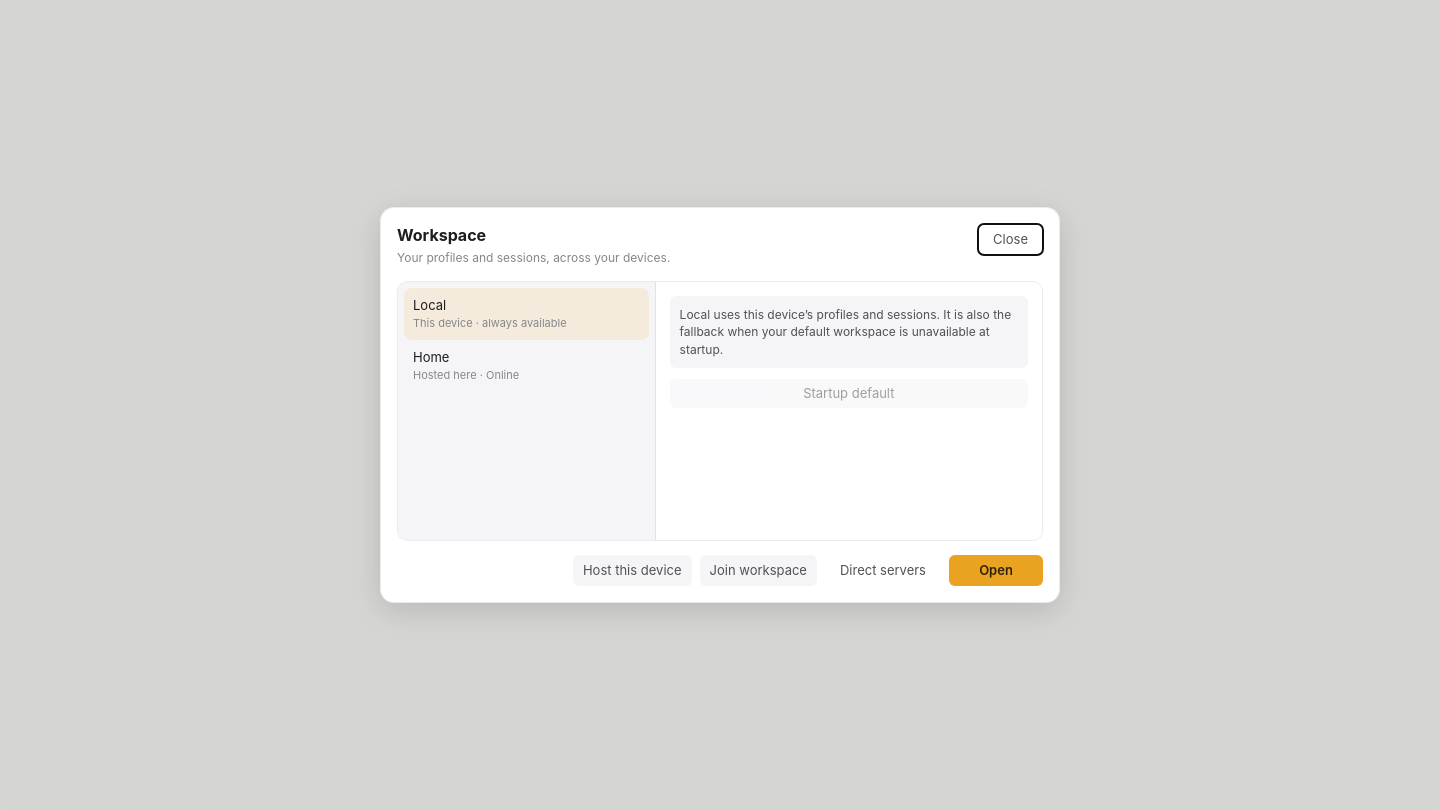
Test case: labels devices and orders the host first (join dates: true)
Click the button "Home Hosted here · Online" at (526, 366), box 404,340 -> 649,392
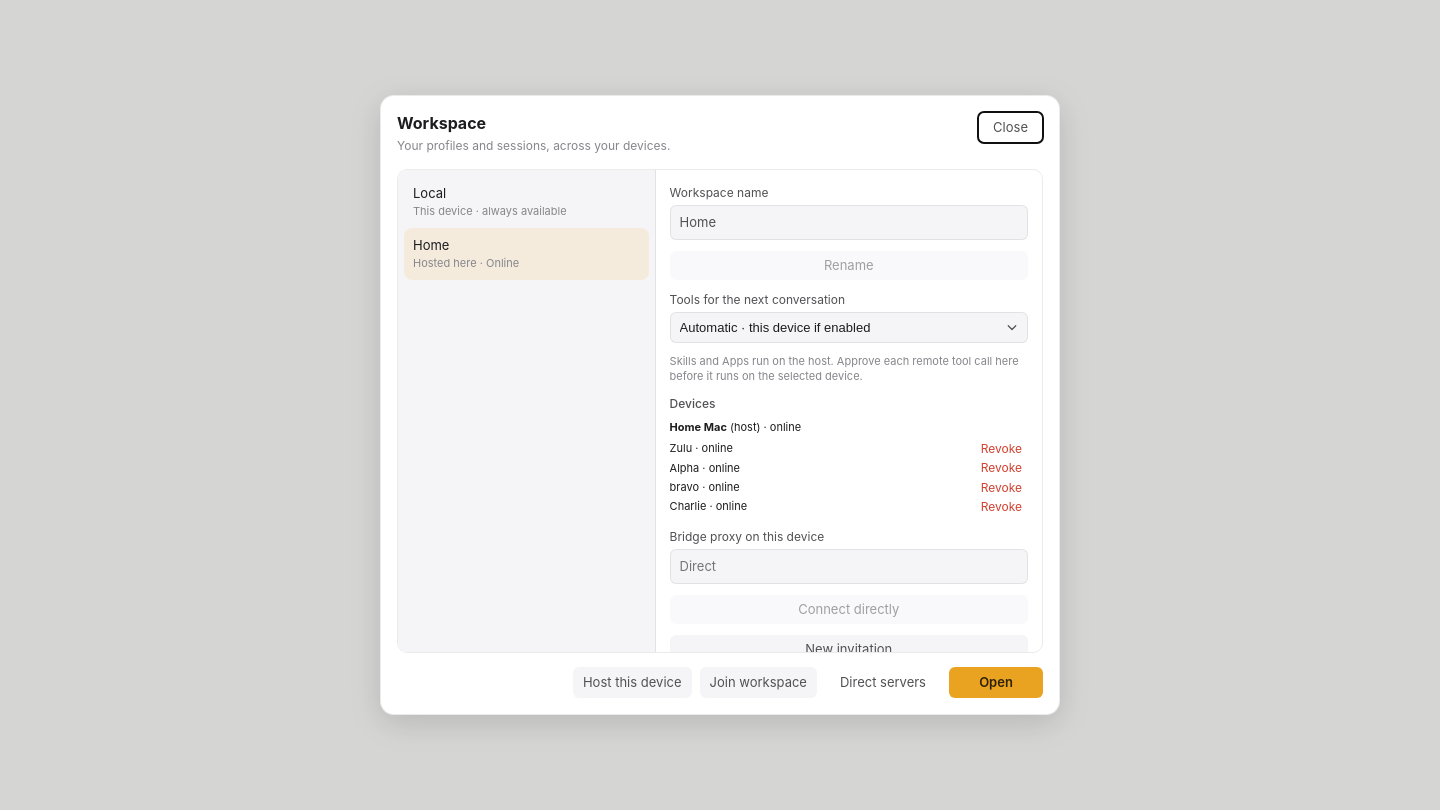
expect the heading "Devices" is shown: met, box 670,396 -> 715,411
